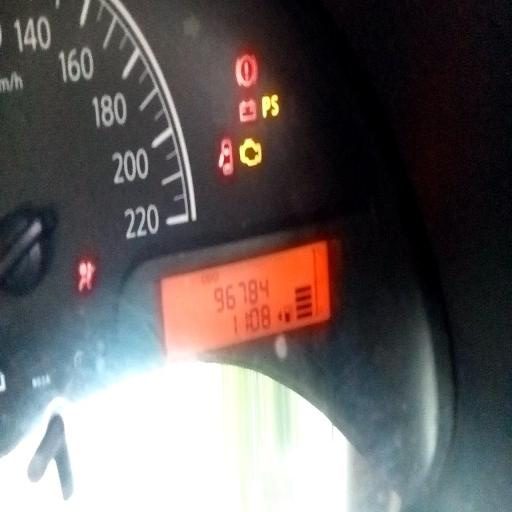brake_system_fault: (236, 54, 258, 88)
check_engine: (239, 138, 262, 168)
vehicle_charging: (239, 99, 256, 121)
